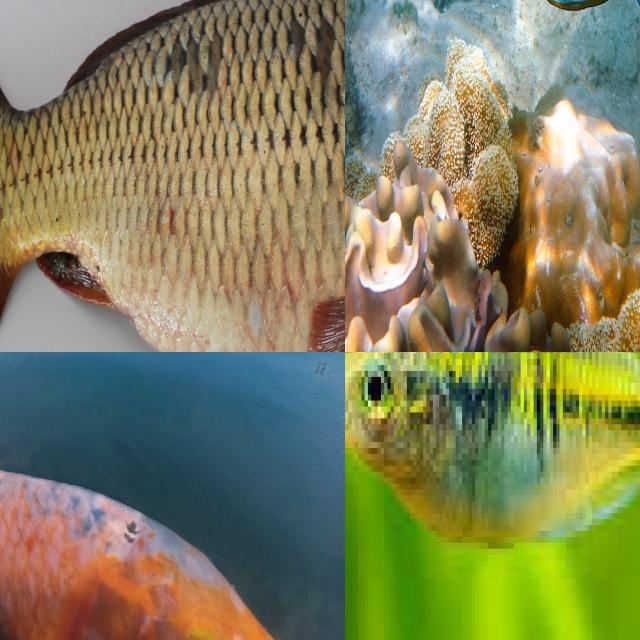fish: (0, 0, 345, 352), (408, 0, 640, 352), (345, 352, 640, 626), (0, 352, 178, 416)
